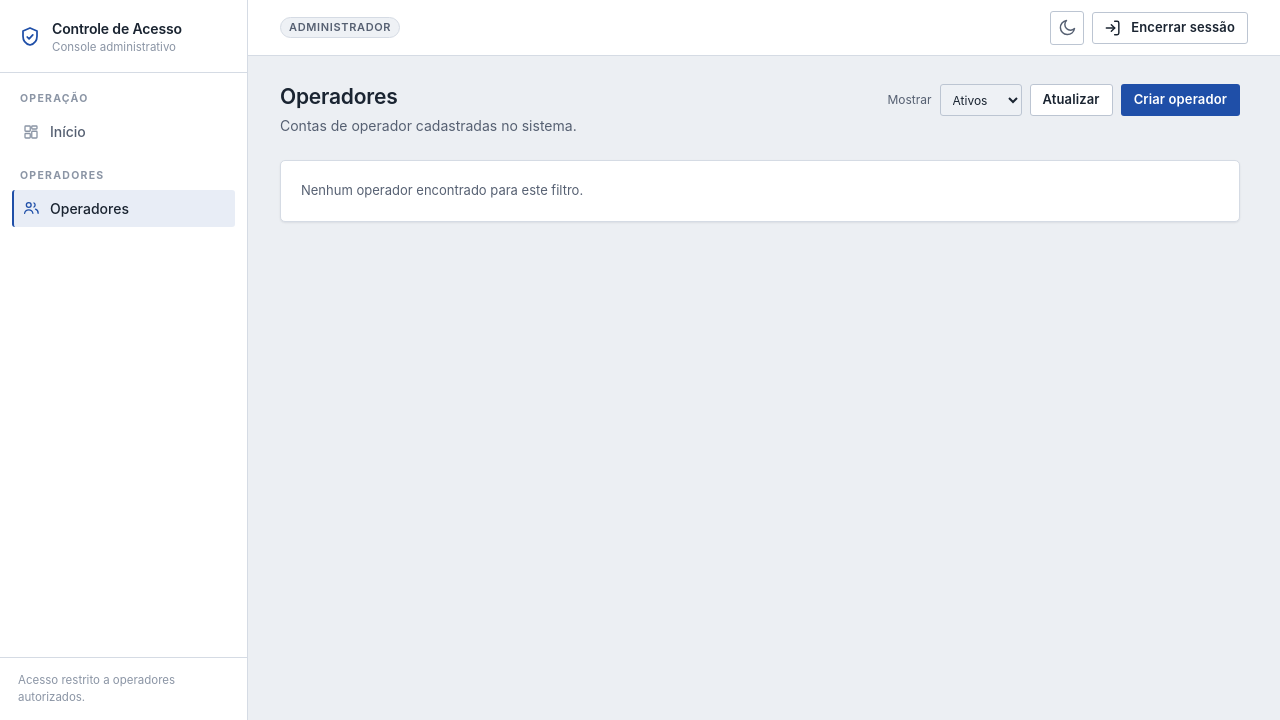
App: jornada da lista para a edição › abre a criação de operador pelo link Criar operador da lista
This screenshot has width=1280, height=720.
Click the link "Criar operador" at (1180, 100), box top-left (1121, 84), bottom-right (1240, 116)
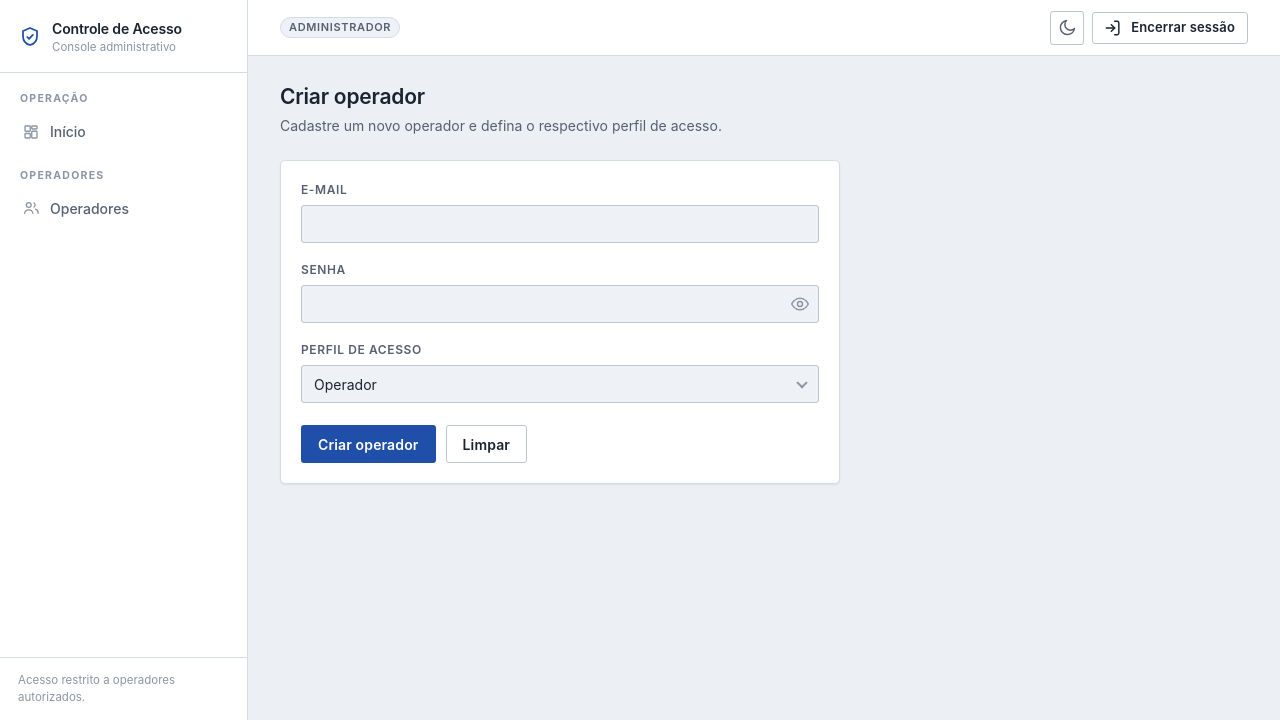
Expected: the heading "Criar operador" is shown, top-left (280, 84), bottom-right (425, 109)
